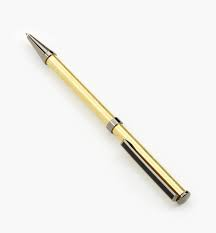qillqana: (20, 27, 192, 212)
